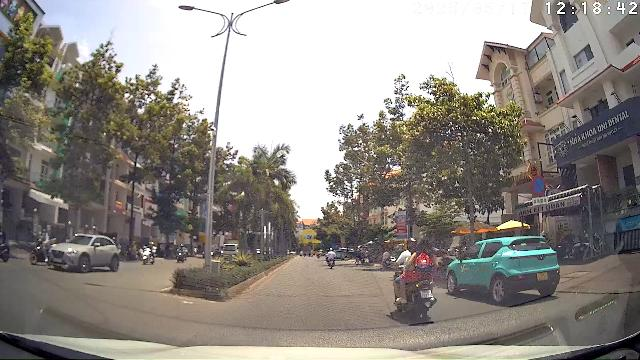131a-cam-do-xe: (531, 176, 546, 196)
